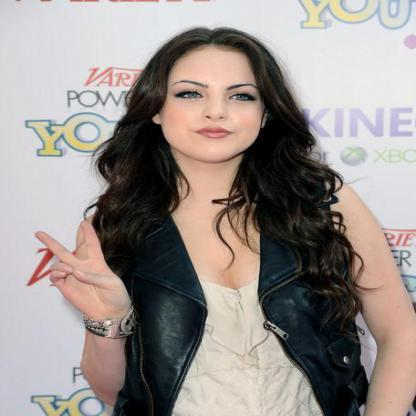long-hair: (83, 158, 343, 220)
